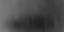LeftEyeFatigue: (4, 11, 57, 32)
